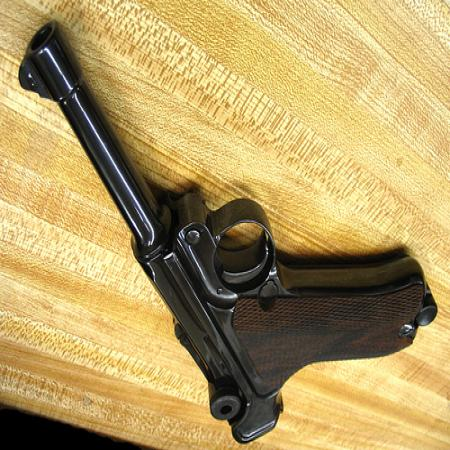Pistol: (24, 25, 440, 448)
